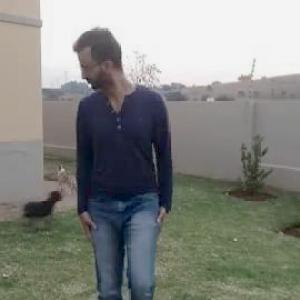follow: (70, 16, 168, 281)
